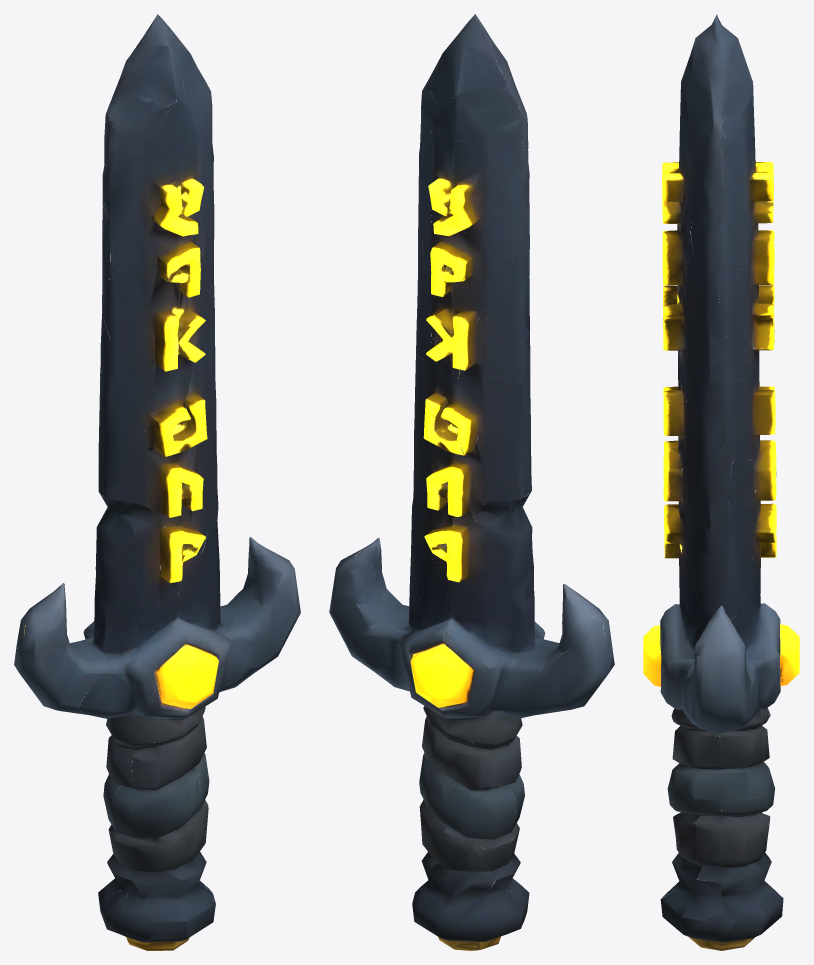
File: Arm_claymore-2wfOJssV.glb
3 views of the same model, side by side, from view 1: azimuth 30°, elevation 25°; view 2: azimuth 150°, elevation 25°; view 3: azimuth 270°, elevation 25° (orthographic).
Parts seen in each view (by area): view 1: Arm_claymore; view 2: Arm_claymore; view 3: Arm_claymore.
Boxes of the visible parts, left/top/right/bottom form: Arm_claymore: left=14, top=14, right=300, bottom=950; Arm_claymore: left=329, top=14, right=614, bottom=950; Arm_claymore: left=643, top=14, right=799, bottom=950.
Bounding box in the file's own units: 0.6747 × 2.2 × 0.3335.
Materials: 1 (1 with a texture image).
